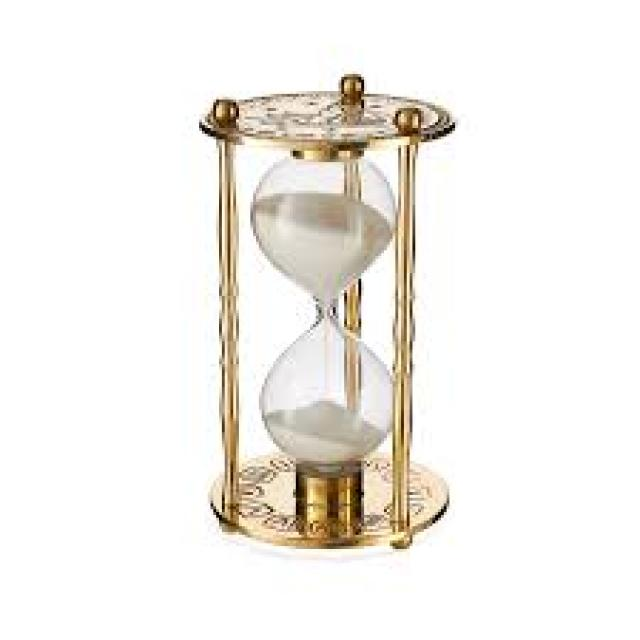clock: (195, 66, 491, 559)
